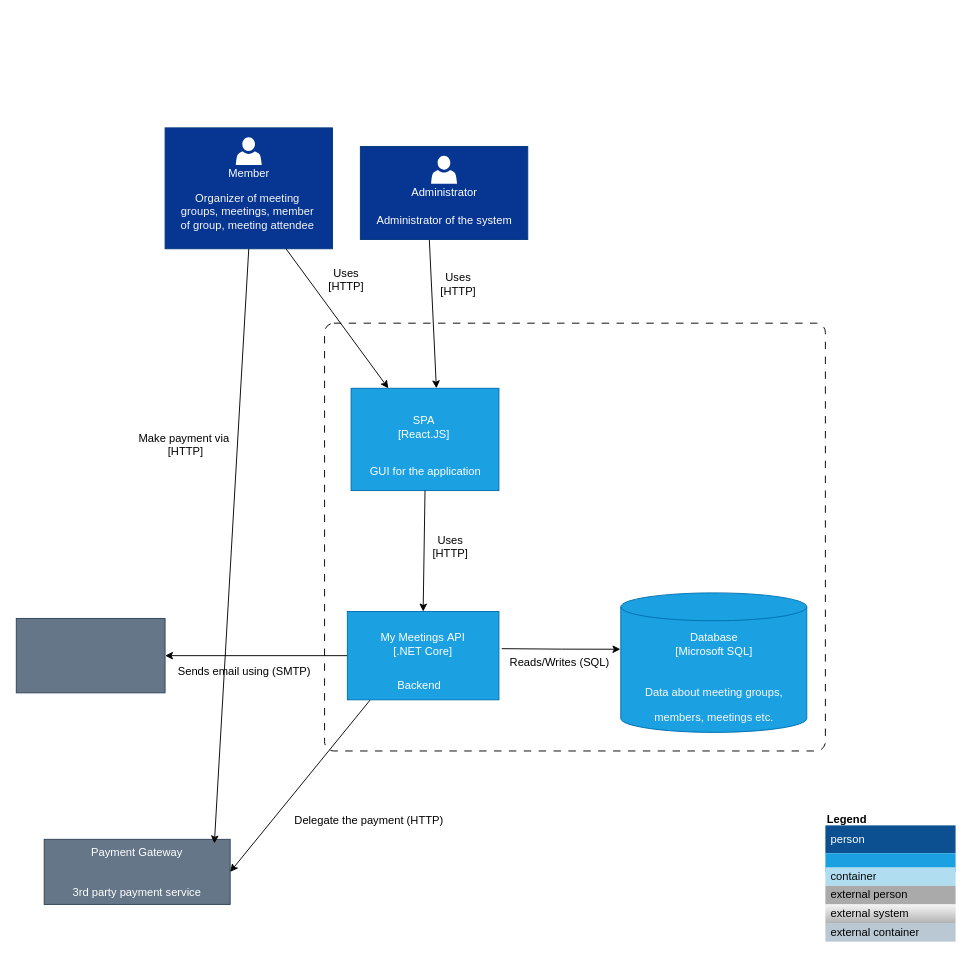
This 972x957 diagram has some shape labels left out. The shapes that lost their labels are listed below. From the top down, each one's box as (x1, y1, x2, y2) in pixels, then its label:
(324, 322, 825, 751): My Meetings System [System]
(15, 618, 165, 693): Email Service 3rd party SMTP server
(825, 853, 955, 871): system
